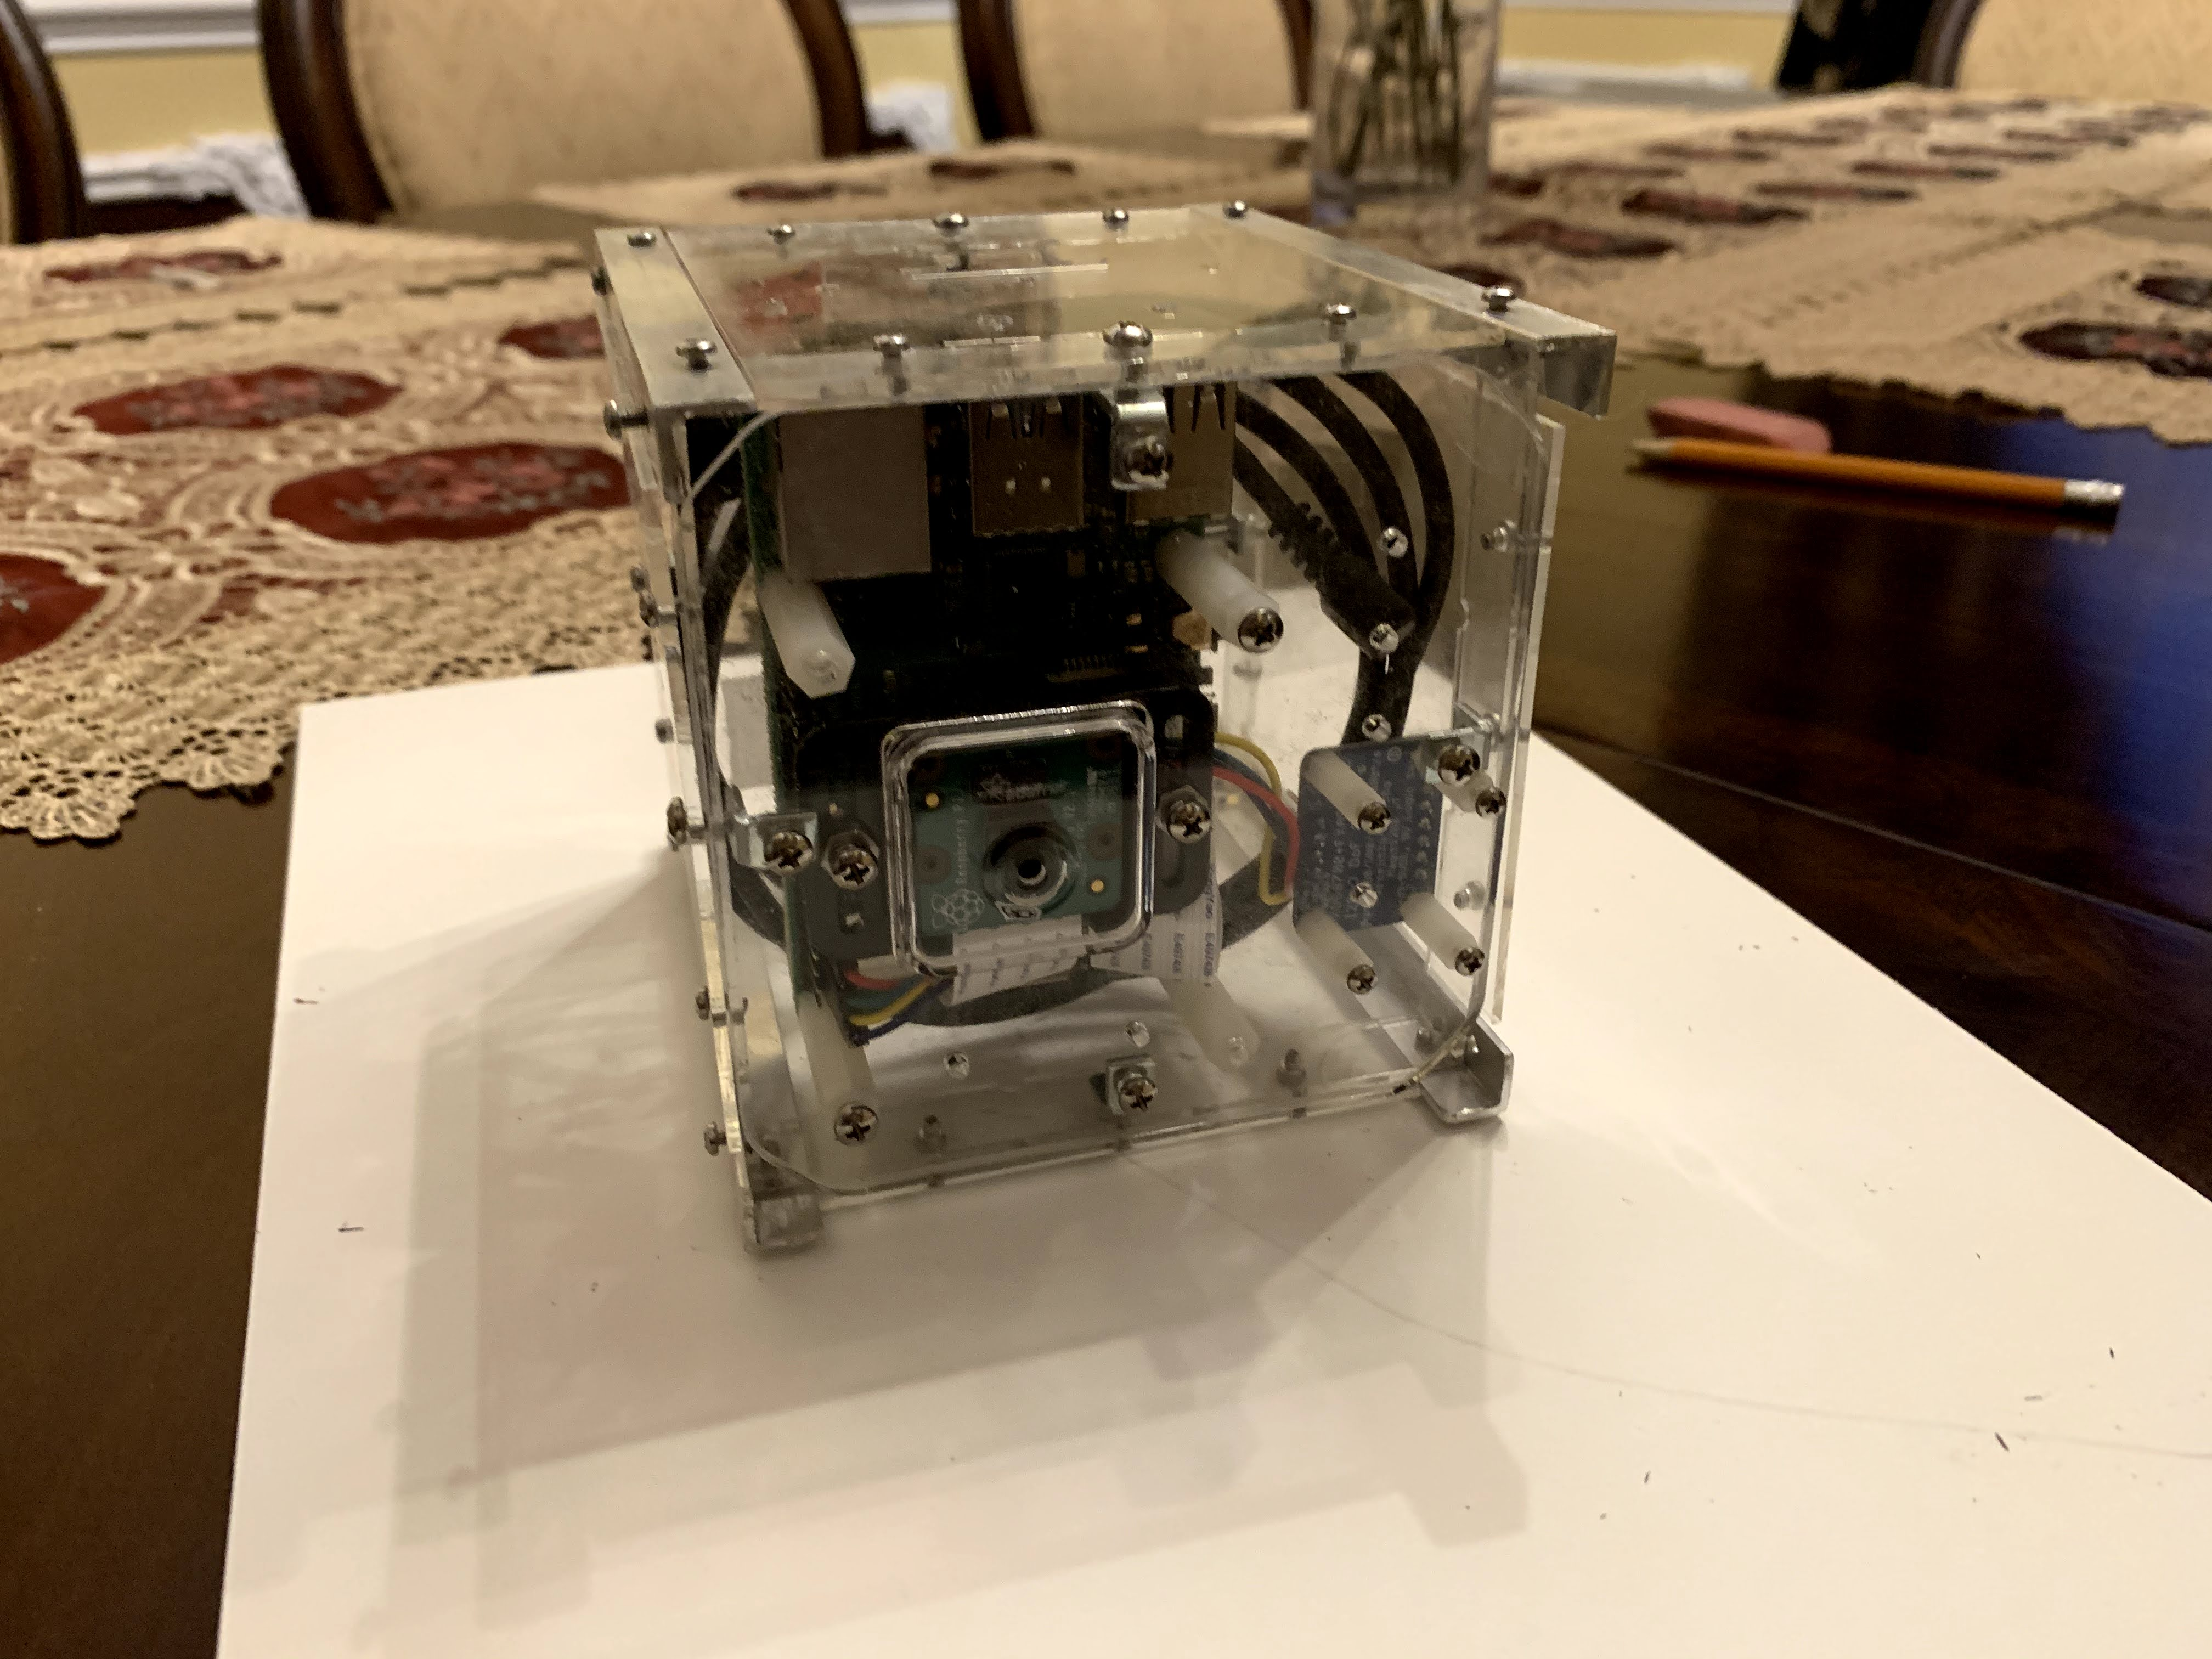Space-debris-cubesat: (578, 186, 1655, 1258)
